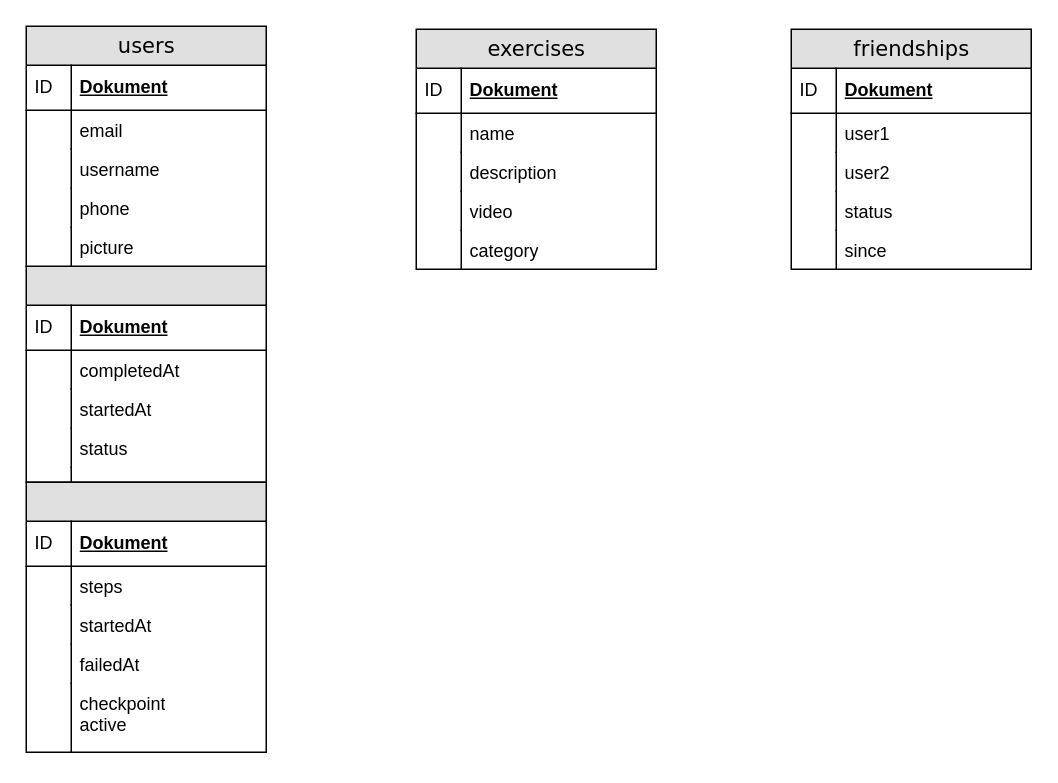
Some shapes in this 1058 by 783 pixel diagram are drawn without their labels. The shapes that lost their labels are listed below. From the top down, each one's box as (x1, y1, x2, y2) in pixels, then its label:
(25, 265, 266, 482): exerciseHistory
(25, 481, 266, 752): streak
